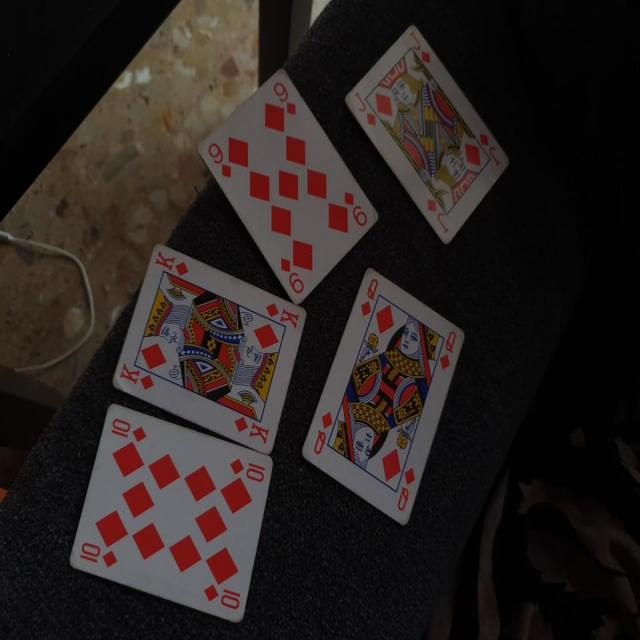10 Diamonds: (67, 401, 272, 622)
9 Diamonds: (193, 65, 380, 305)
J Diamonds: (342, 25, 510, 244)
K Diamonds: (111, 244, 307, 458)
Q Diamonds: (300, 266, 465, 528)
